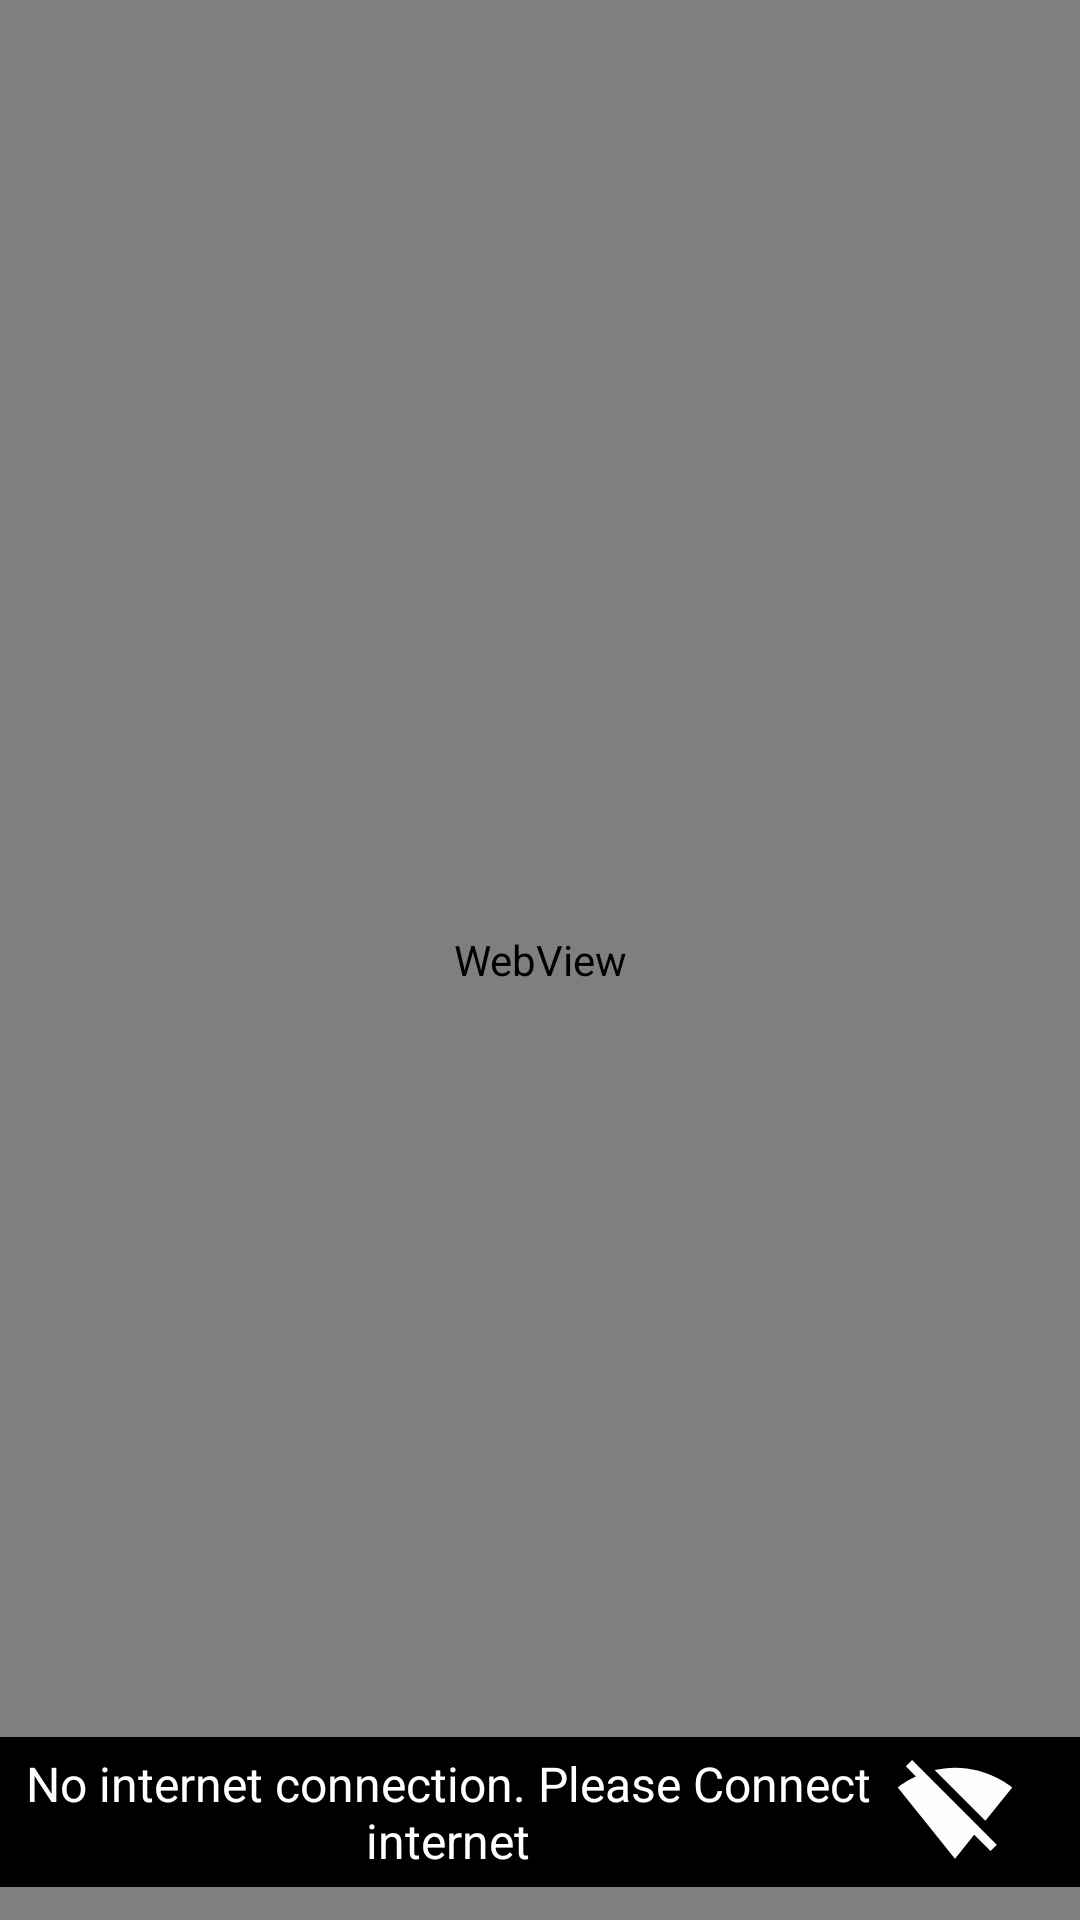

Where to tap for icons on this 1080 x 1920 app screen, as [x,y]:
signal wifi off: [955,1809]
